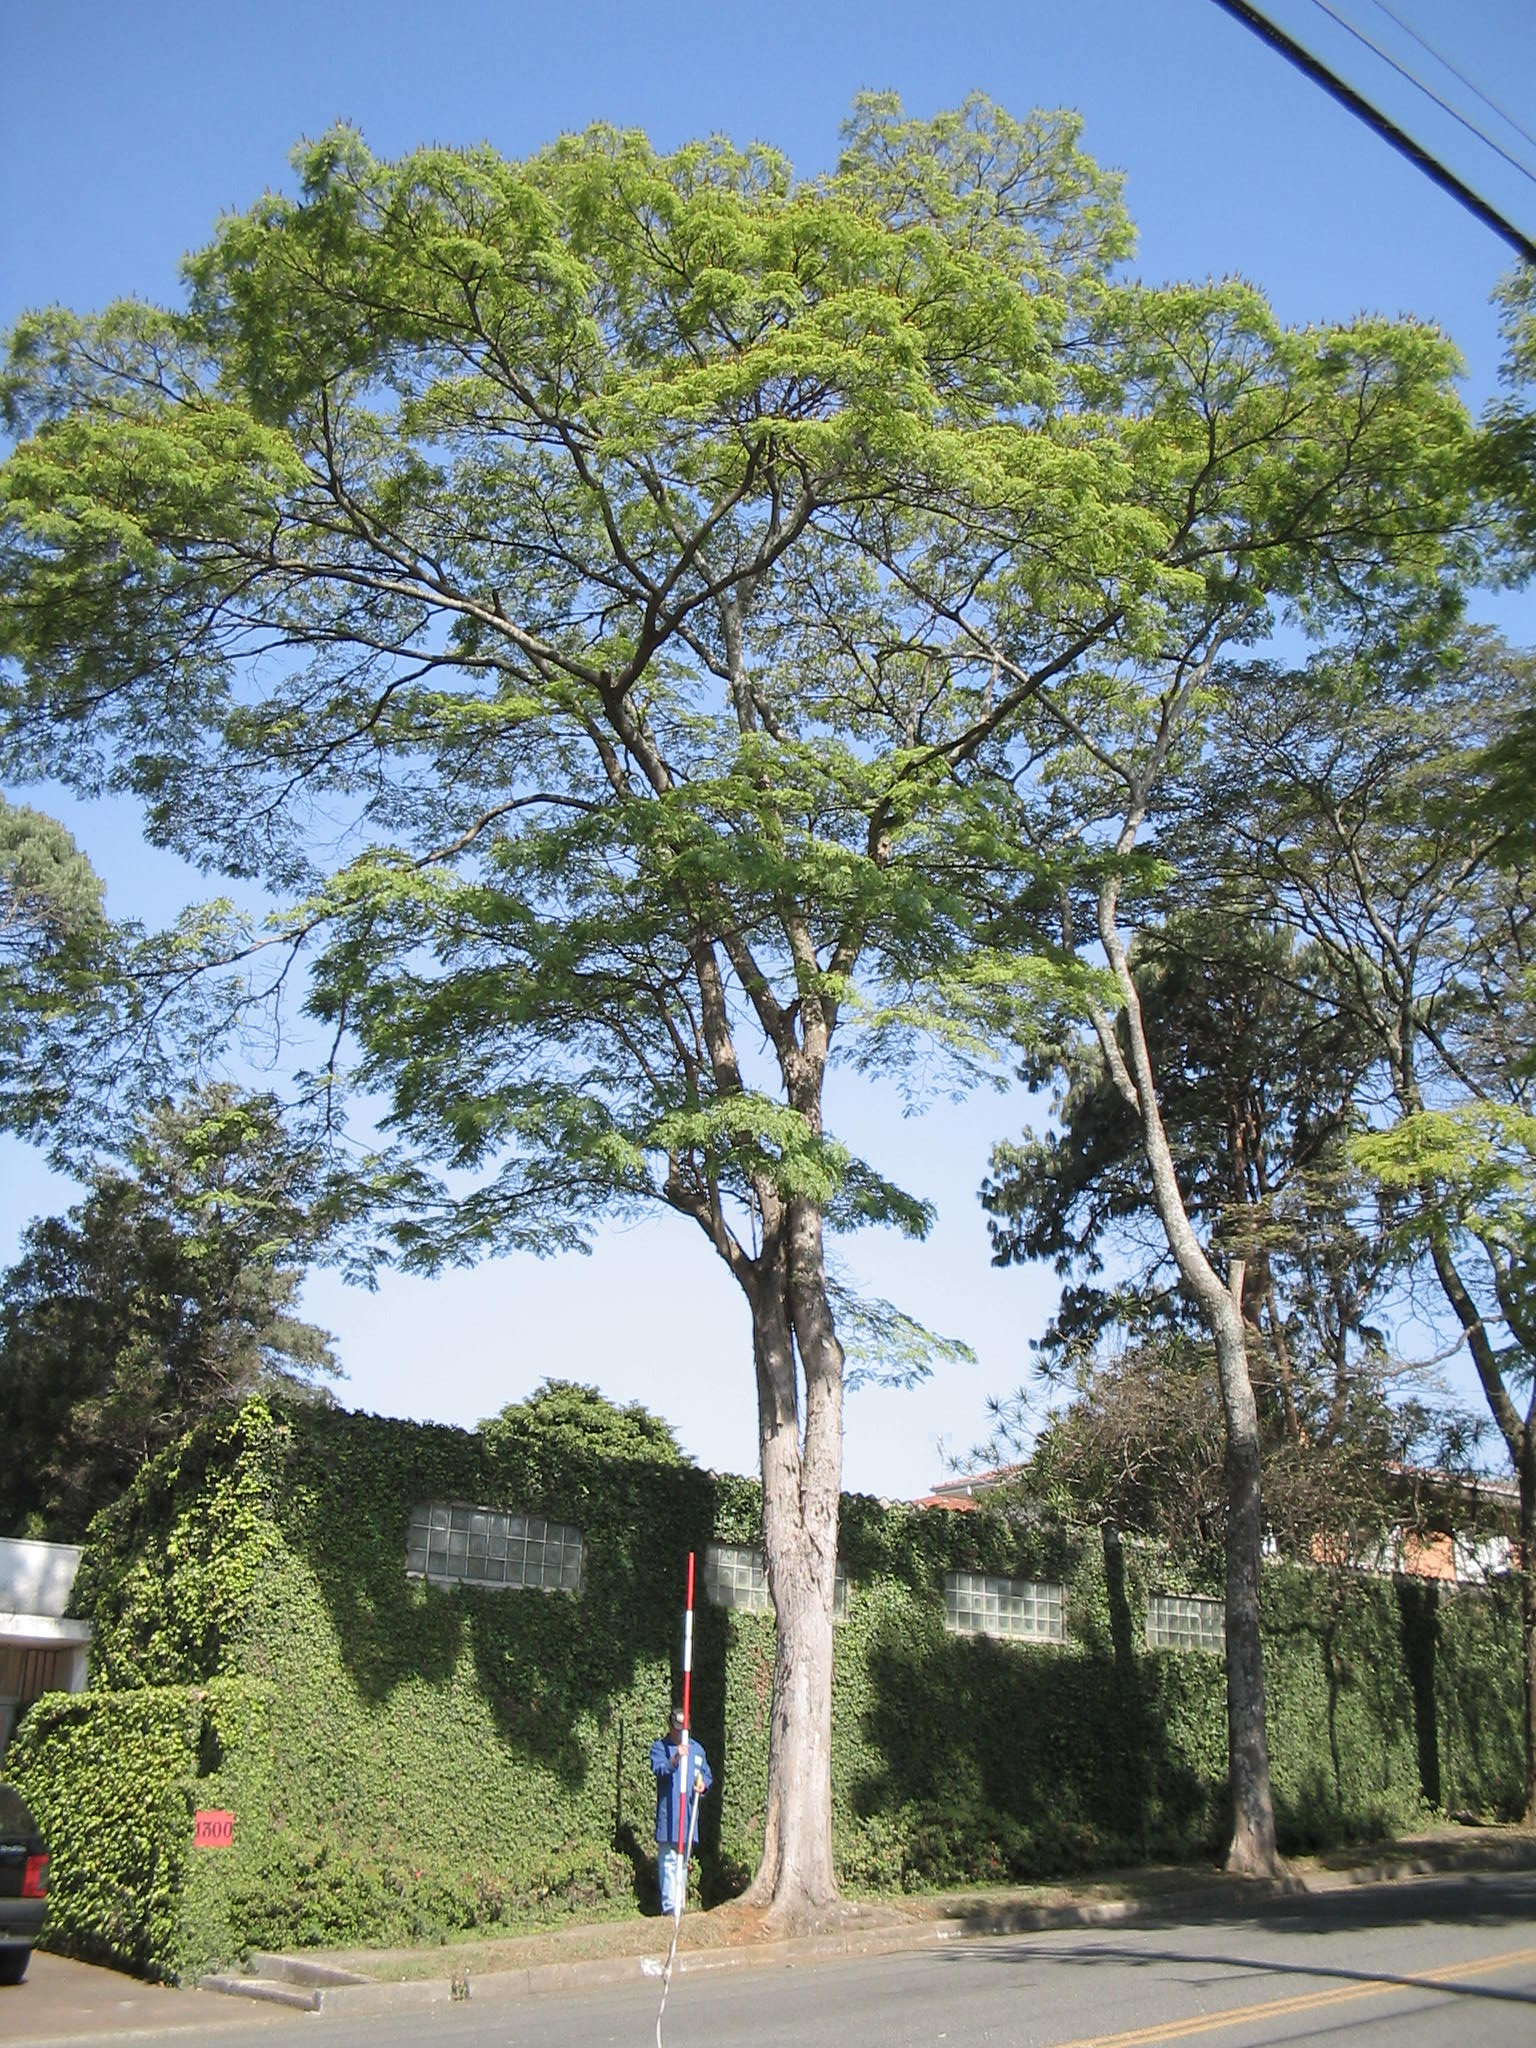crown: (18, 100, 1470, 1295)
stem: (1146, 1282, 1336, 1867), (715, 1526, 899, 1911)
stick: (645, 1550, 721, 1914)
tree: (3, 95, 1478, 1916), (900, 818, 1499, 1874)
